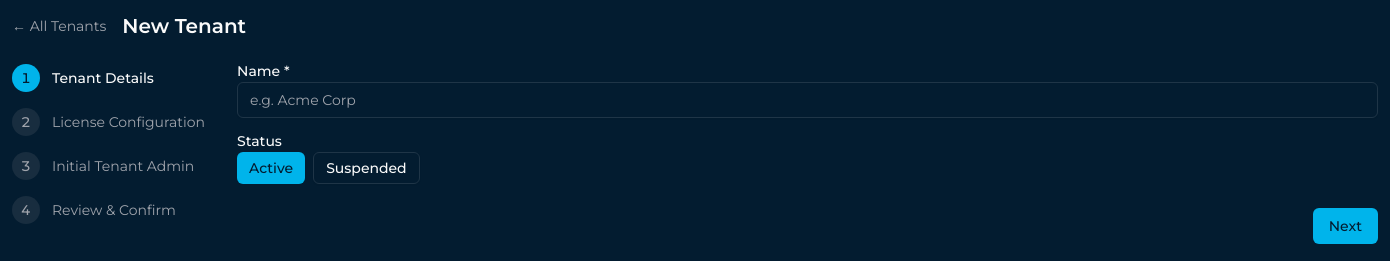
it: TenantProvisioningPage › step 2 live preview: typing a number shows seat preview
Type "Acme Corp" into the field labelled "Name *" at (808, 100), box x1=237 y1=82 x2=1378 y2=118
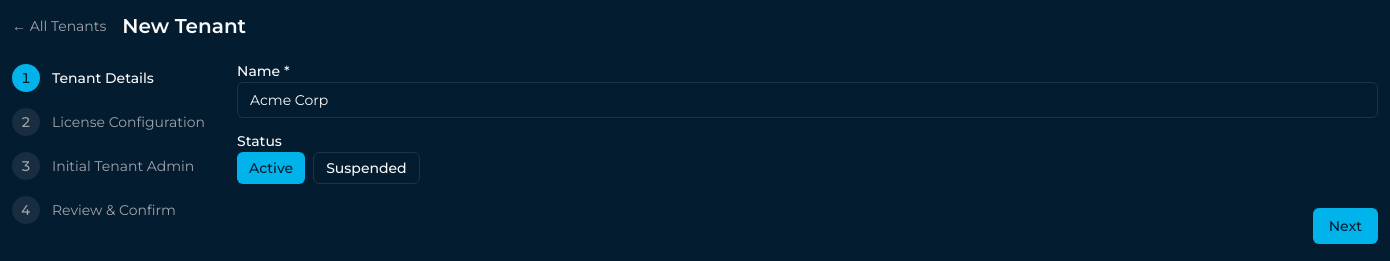
Click the button "Next" at (1345, 226), box x1=1313 y1=208 x2=1378 y2=244
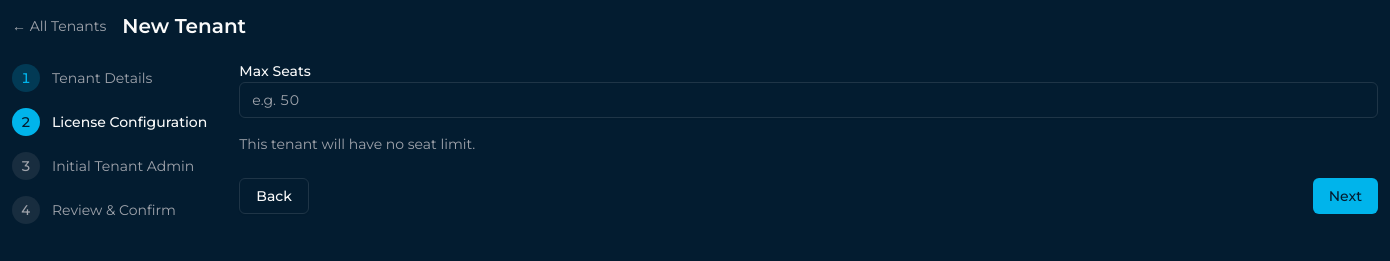
Now the number field labelled "Max Seats" is shown
Type "5" into the number field labelled "Max Seats" at (809, 100), box x1=239 y1=82 x2=1378 y2=118
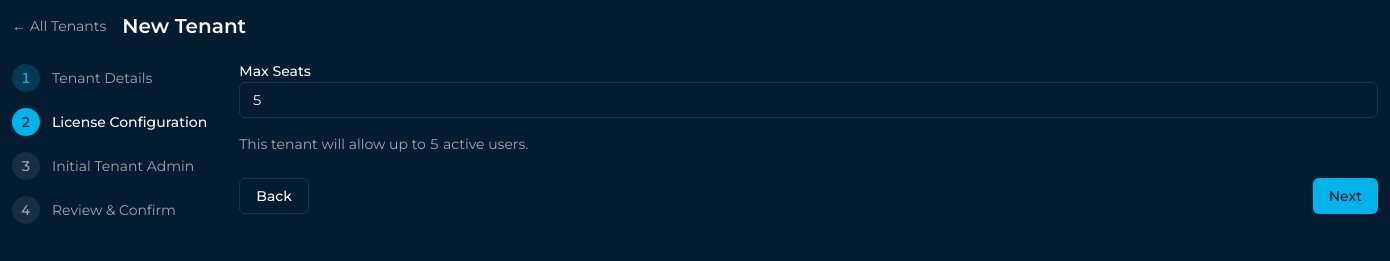
Now the text "This tenant will allow up to 5 active users." is shown, box x1=239 y1=135 x2=528 y2=153
